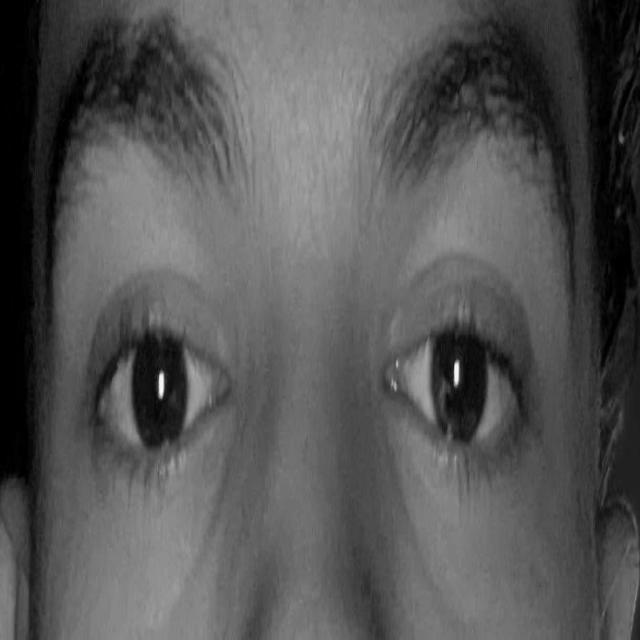real: (59, 166, 563, 538)
